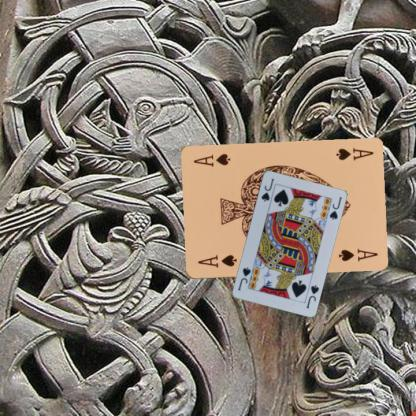As: (195, 252, 238, 270), (333, 146, 374, 162)
Js: (303, 282, 320, 309), (258, 176, 275, 202)
